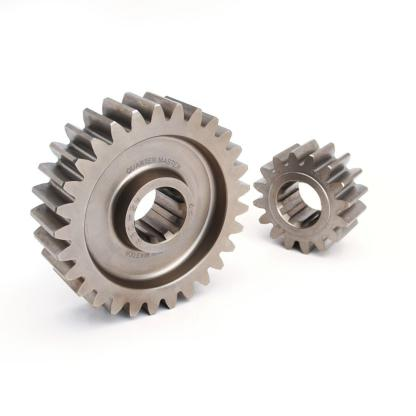FOD: (13, 73, 252, 336), (254, 130, 372, 262)
